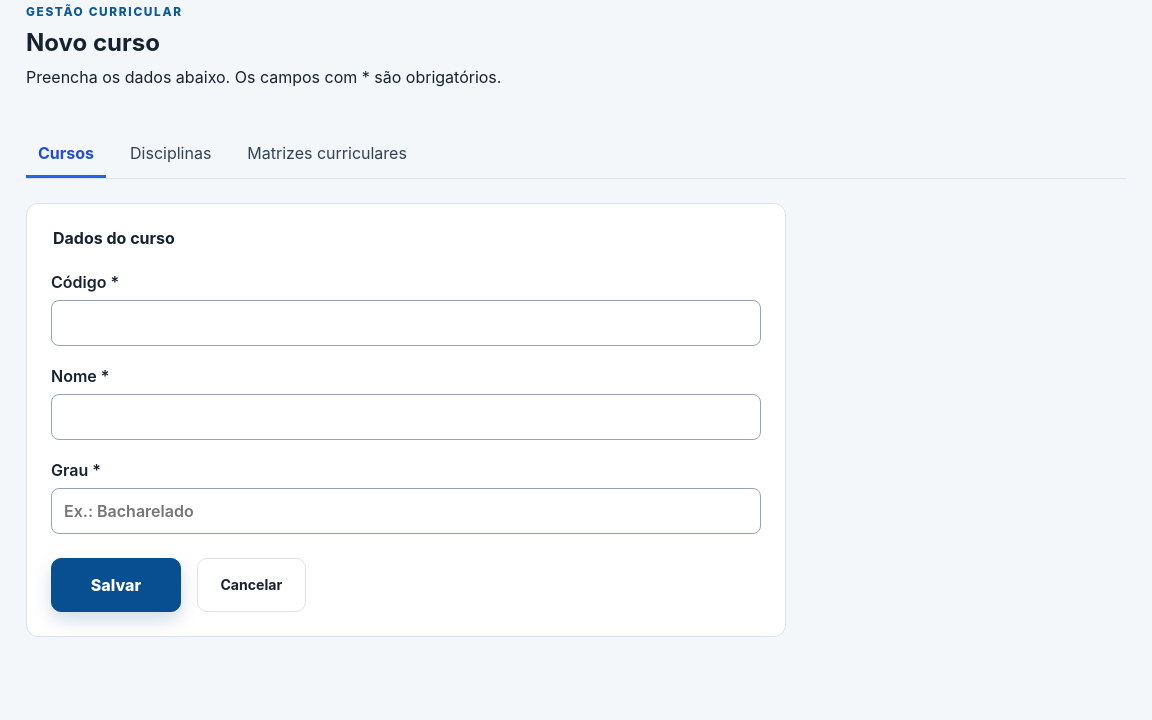
gestão curricular pela API › cria curso e recarrega a listagem
In the field labelled "Código *": (406, 323) 51,300 -> 761,346, type "SI"
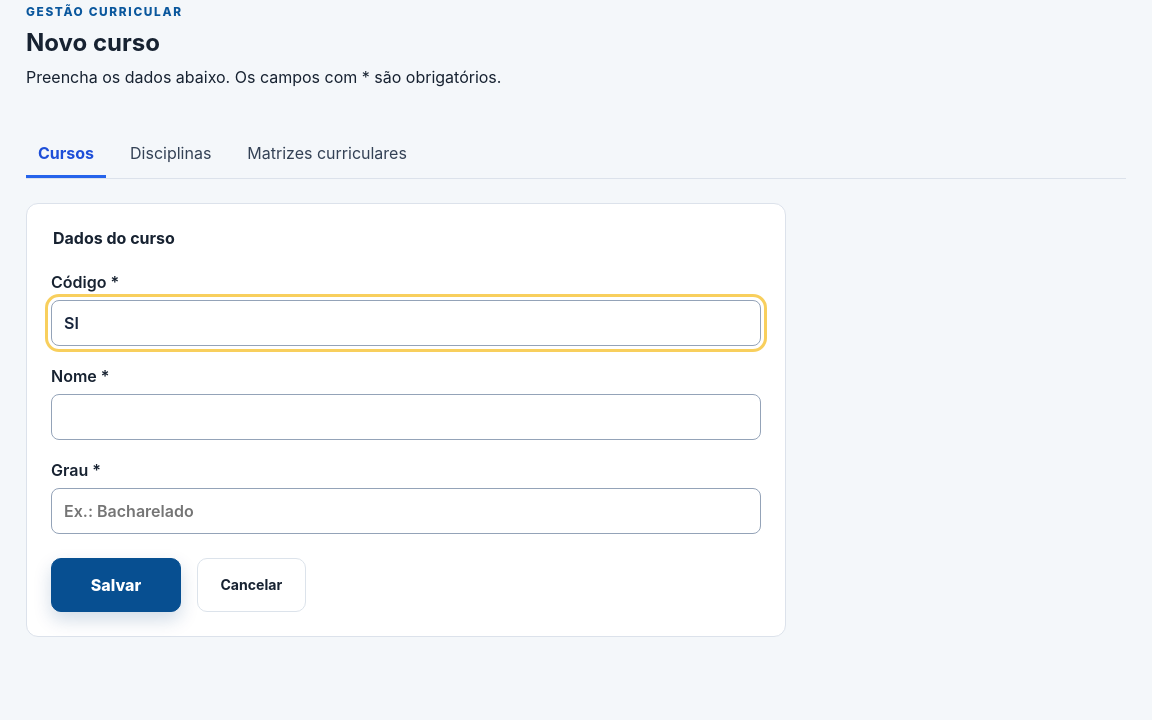
In the field labelled "Nome *": (406, 417) 51,394 -> 761,440, type "Sistemas de Informação"
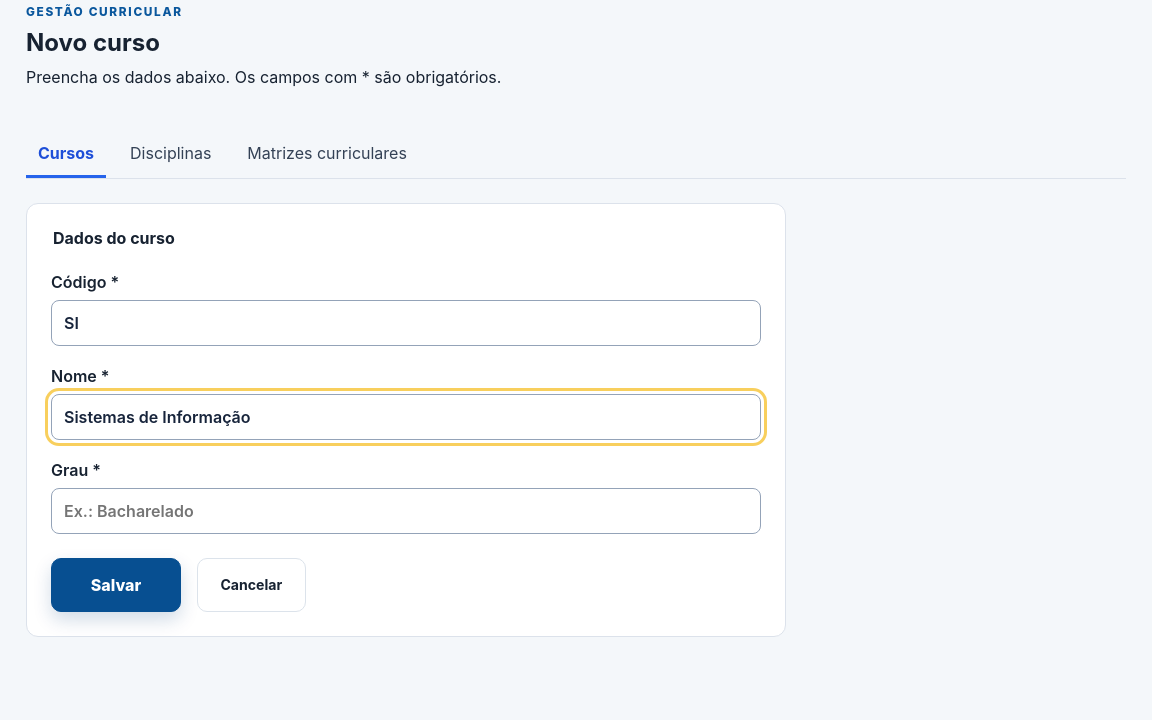
In the field labelled "Grau *": (406, 511) 51,488 -> 761,534, type "Bacharelado"
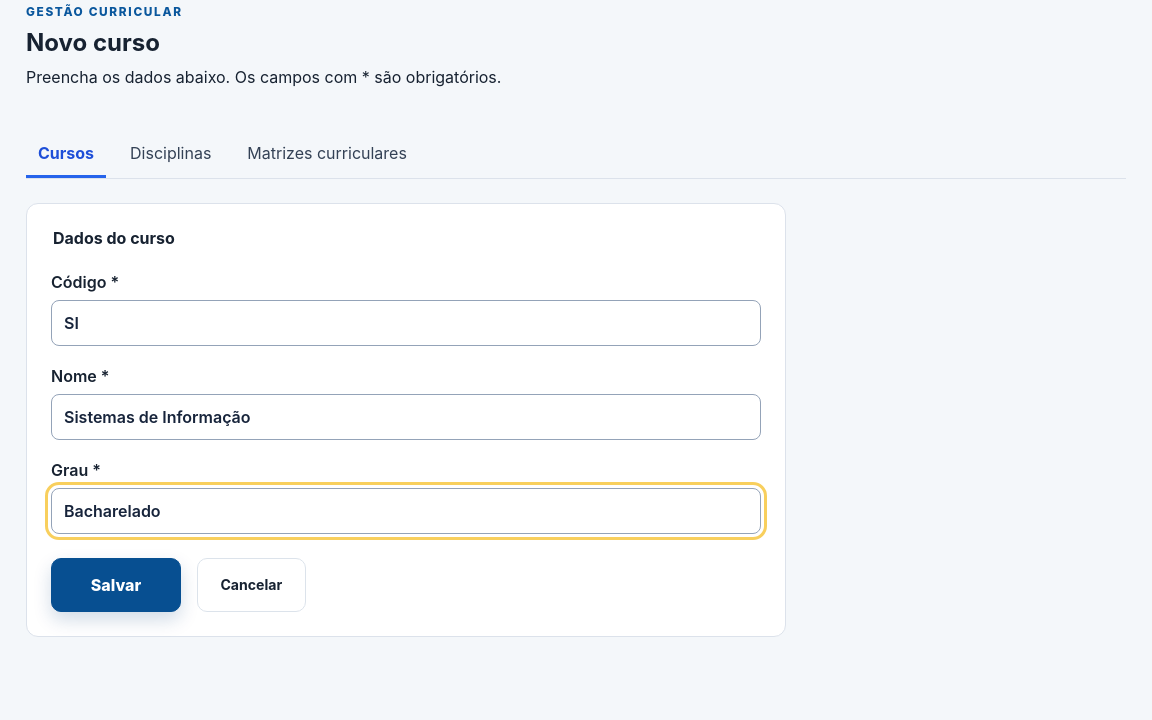
Click the button "Salvar": (116, 585) 51,558 -> 181,612
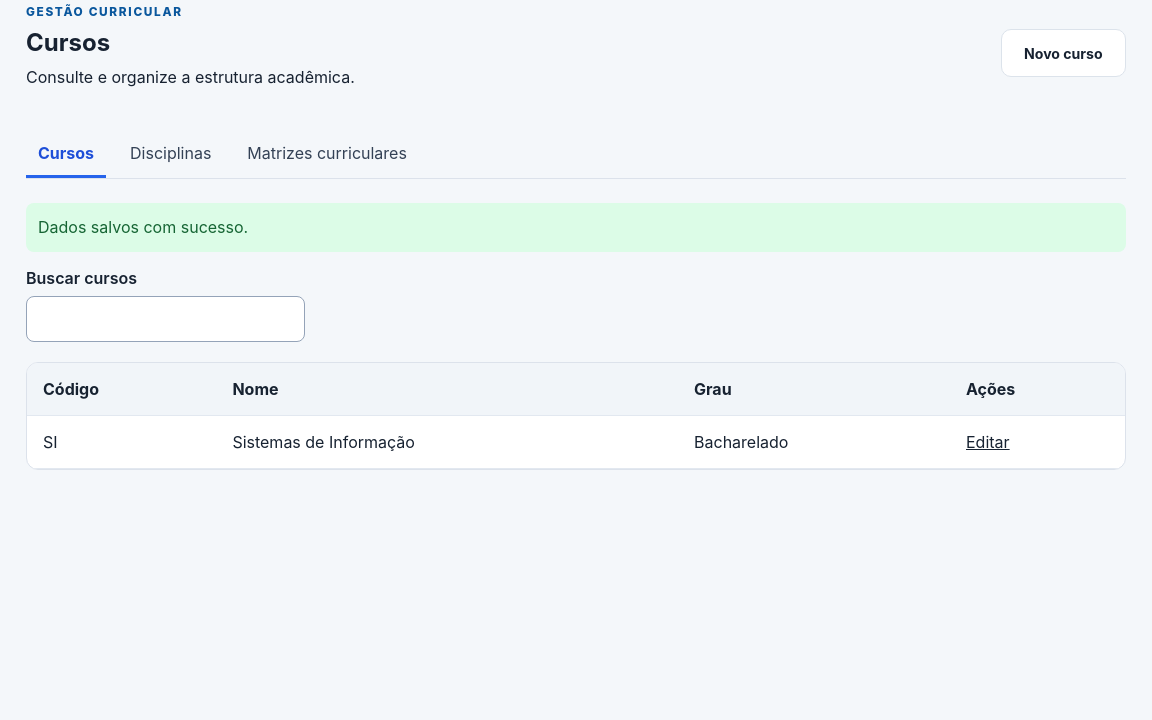
Expected: the text "Dados salvos com sucesso." is shown, 26,203 -> 1126,252
Expected: the text "Sistemas de Informação" is shown, 216,416 -> 678,469
